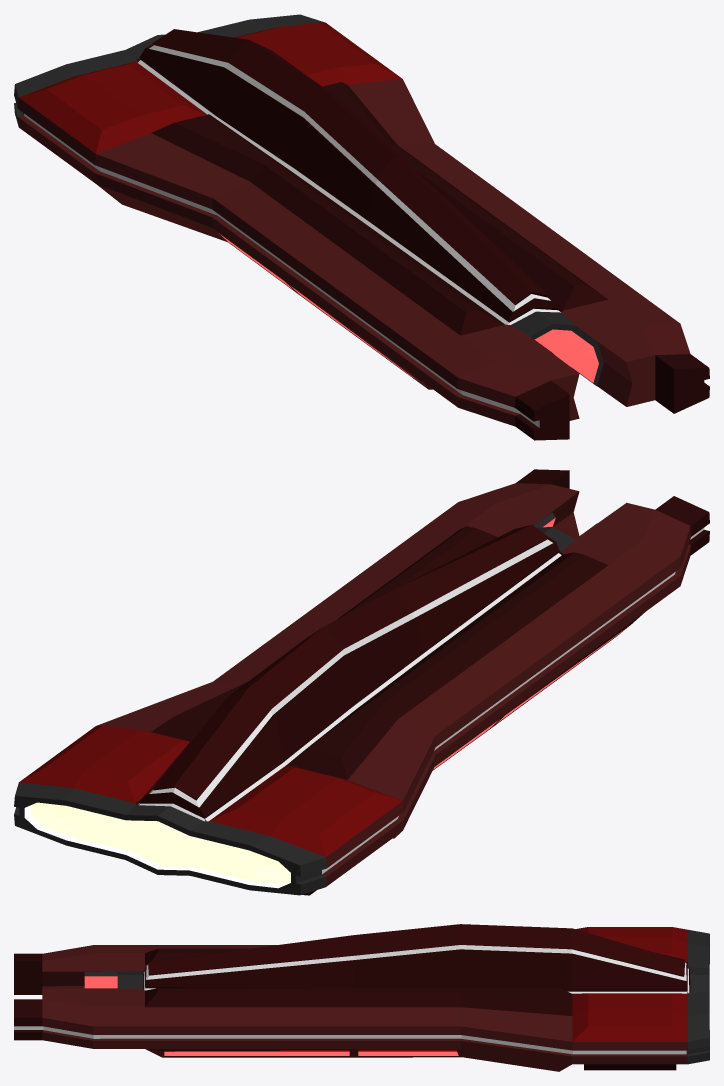
The model's file is Enemy_Capital_Ship.fbx.
3 views of the same model, one above another, from view 1: azimuth 30°, elevation 25°; view 2: azimuth 150°, elevation 25°; view 3: azimuth 270°, elevation 25° (orthographic). The views are drawn at different scales.
Visible parts, largest first — view 1: Capital_Ship; view 2: Capital_Ship; view 3: Capital_Ship.
Boxes of the visible parts, x1,y1,x2,y2 form: Capital_Ship: (14,14,709,440); Capital_Ship: (14,469,709,895); Capital_Ship: (14,924,709,1071).
Bounding box in the file's own units: 2488 × 1077 × 6476.
